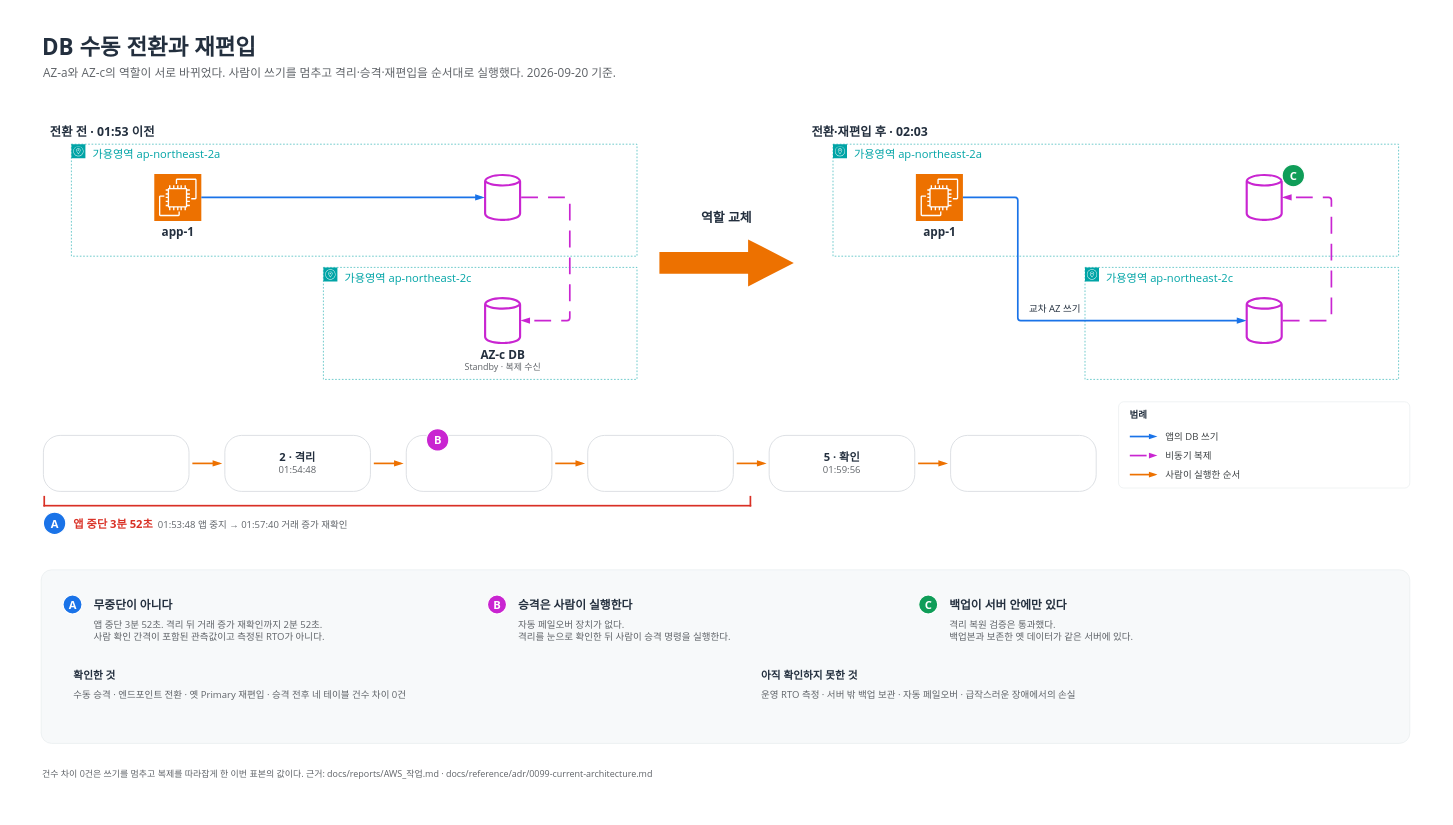
Some shapes in this 1453 by 825 pixel diagram are drawn without their labels. The shapes that lost their labels are listed below. From the top down, each one's box as (x1, y1, x2, y2) in pixels, then its label:
(479, 174, 526, 221): AZ-a DB Primary · 쓰기 대상
(1240, 174, 1287, 221): AZ-a DB Standby · 복제 수신
(1240, 297, 1287, 344): AZ-c DB Primary · 쓰기 대상
(43, 435, 189, 492): 1 · 쓰기 중단 01:53:32 봇 · 01:53:48 앱
(406, 435, 552, 492): 3 · 승격 01:55:17
(587, 435, 733, 492): 4 · 접속 전환 01:55:48
(950, 435, 1096, 492): 6 · 재편입 02:03:29
